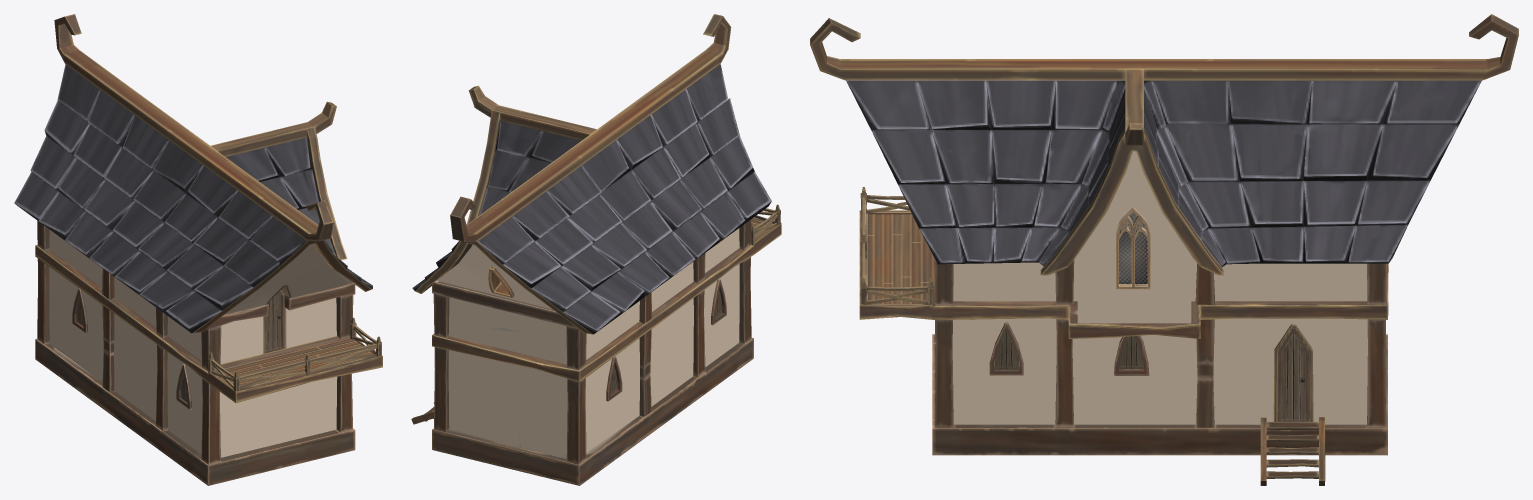
The model's file is House 2.fbx.
3 renders of one model, left to right at view 1: azimuth 30°, elevation 25°; view 2: azimuth 150°, elevation 25°; view 3: azimuth 270°, elevation 25°, orthographic. The views are drawn at different scales.
Visible parts, largest first — view 1: House 2; view 2: House 2; view 3: House 2.
Boxes of the visible parts, x1=… form: House 2: x1=14, y1=14, x2=382, y2=485; House 2: x1=411, y1=14, x2=781, y2=485; House 2: x1=810, y1=14, x2=1518, y2=485.
Bounding box in the file's own units: 1577 × 2013 × 3275.
